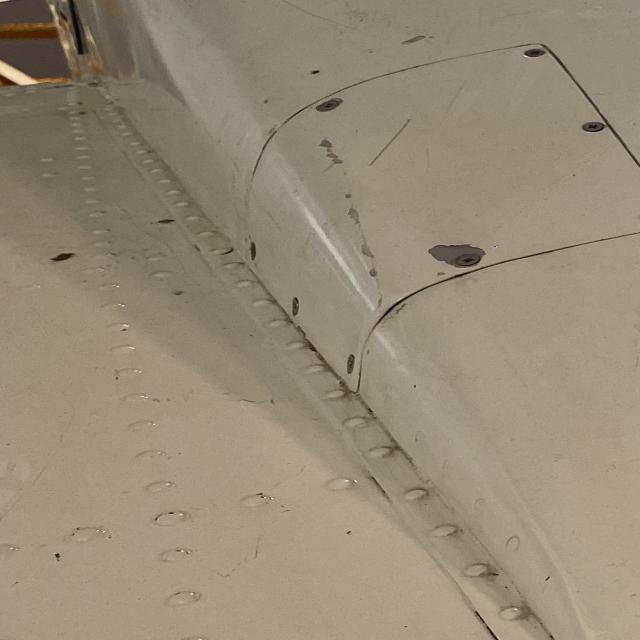Paint-off: (425, 244, 483, 268), (386, 30, 432, 55), (317, 138, 345, 165), (356, 236, 377, 263), (345, 203, 363, 224), (155, 213, 178, 228), (50, 251, 74, 263), (364, 268, 377, 280), (312, 69, 323, 76)
Scratch: (365, 114, 408, 166)
